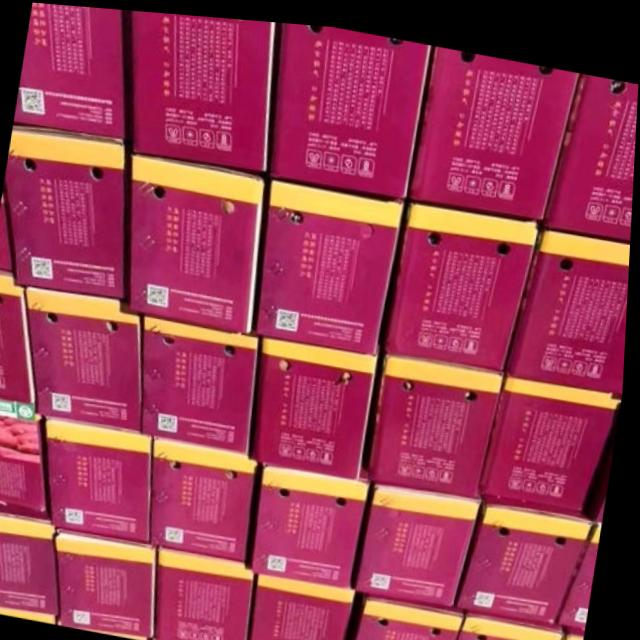box: (409, 39, 580, 210), (269, 18, 431, 192), (259, 173, 408, 348), (385, 195, 542, 361), (132, 150, 266, 329), (130, 8, 275, 166), (7, 121, 132, 298), (507, 216, 632, 384), (483, 364, 625, 503), (371, 346, 508, 488), (461, 487, 600, 616), (256, 332, 381, 473), (27, 286, 148, 429), (544, 63, 639, 232), (145, 313, 262, 450), (361, 474, 487, 599), (16, 2, 132, 137), (257, 457, 375, 581), (155, 433, 268, 558), (50, 414, 157, 541), (61, 527, 163, 635), (161, 543, 259, 640), (253, 569, 361, 640), (0, 499, 65, 613), (0, 397, 54, 510), (357, 587, 470, 640), (0, 269, 38, 403), (563, 511, 606, 618), (460, 601, 571, 640), (0, 182, 15, 272), (563, 616, 590, 640)
